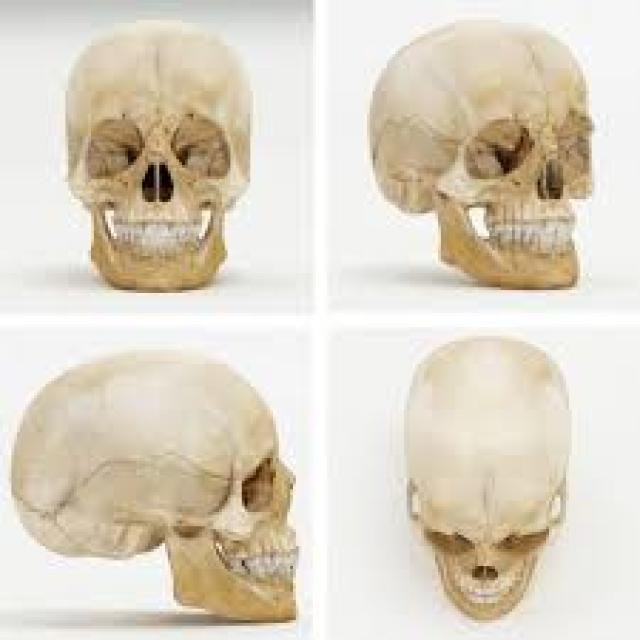skull: (7, 341, 300, 636), (354, 0, 620, 316), (48, 24, 289, 307)
